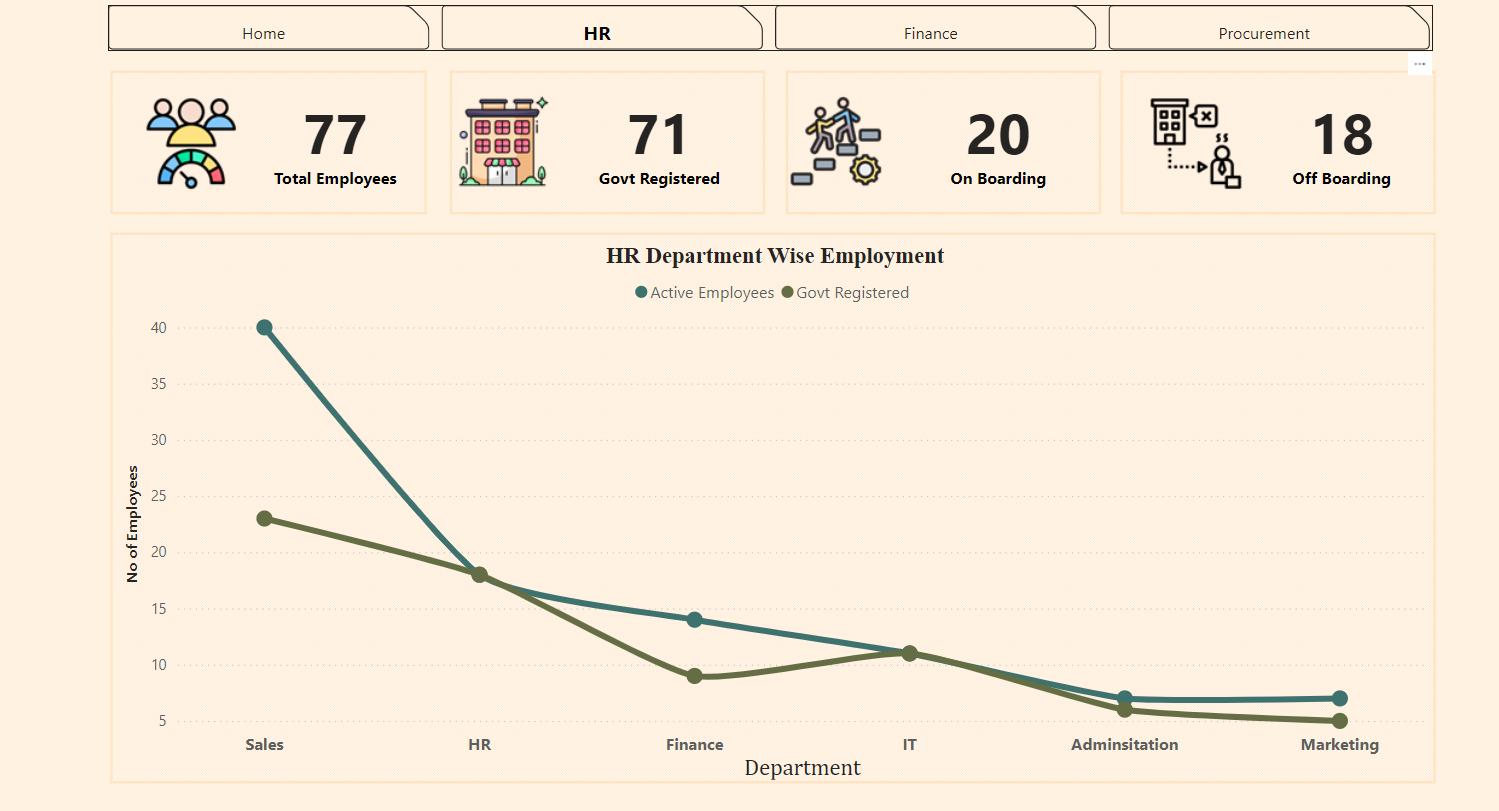

What the dashboard file says about the page in this screenshot:
{"tool":"powerbi","page":{"name":"HR","canvas":[1280,720],"ordinal":1},"visuals":[{"type":"lineChart","title":"HR Department Wise Employment","fields":{"Category":["EmployementTable.Department"],"Y":["CountNonNull(EmployementTable.EmpID)","EmployementTable.ActiveEmployees"]},"box":[129.4,205.2,1087.4,450.3],"z":0},{"type":"card","fields":{"Values":["CountNonNull(EmployementTable.DisplayName)"]},"box":[243.2,71,131.3,100.2],"z":1000},{"type":"card","fields":{"Values":["CountNonNull(EmployementTable.DisplayName)"]},"box":[511.6,71,131.3,100.2],"z":2000},{"type":"card","fields":{"Values":["CountNonNull(EmployementTable.DisplayName)"]},"box":[791.7,71,131.3,100.2],"z":3000},{"type":"card","fields":{"Values":["CountNonNull(EmployementTable.DisplayName)"]},"box":[1076.7,71,130.3,100.2],"z":4000},{"type":"pageNavigator","box":[120.8,9.5,1096.3,38],"z":5000}]}

Visuals, with their boxes on the page's 1280x720 design canvas (x1, y1, x2, y2). These are canvas units, not pixel positions in the 1499x811 screenshot, which may show the page scaled, cropped or inside an application window:
"HR Department Wise Employment" lineChart: left=129, top=205, right=1217, bottom=656
card - CountNonNull(EmployementTable.DisplayName): left=243, top=71, right=374, bottom=171
card - CountNonNull(EmployementTable.DisplayName): left=512, top=71, right=643, bottom=171
card - CountNonNull(EmployementTable.DisplayName): left=792, top=71, right=923, bottom=171
card - CountNonNull(EmployementTable.DisplayName): left=1077, top=71, right=1207, bottom=171
pageNavigator: left=121, top=10, right=1217, bottom=48
